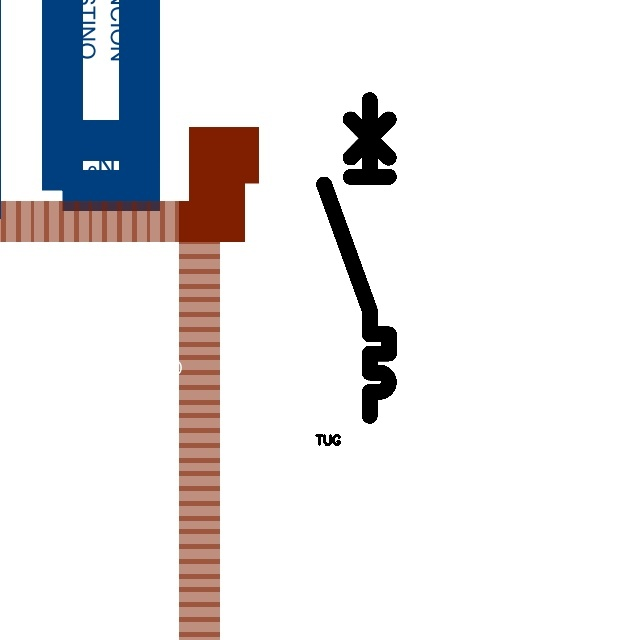interruptor_termomagnetico: (316, 92, 397, 424)
